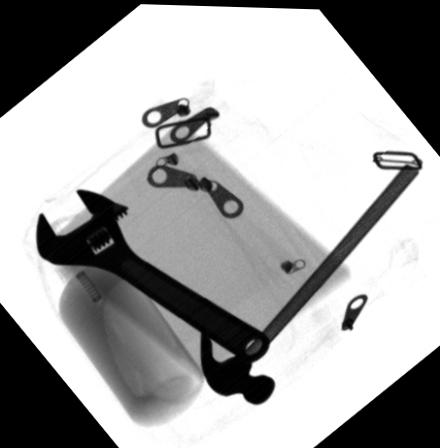Hammer: (197, 159, 419, 403)
Wrench: (33, 189, 266, 361)
